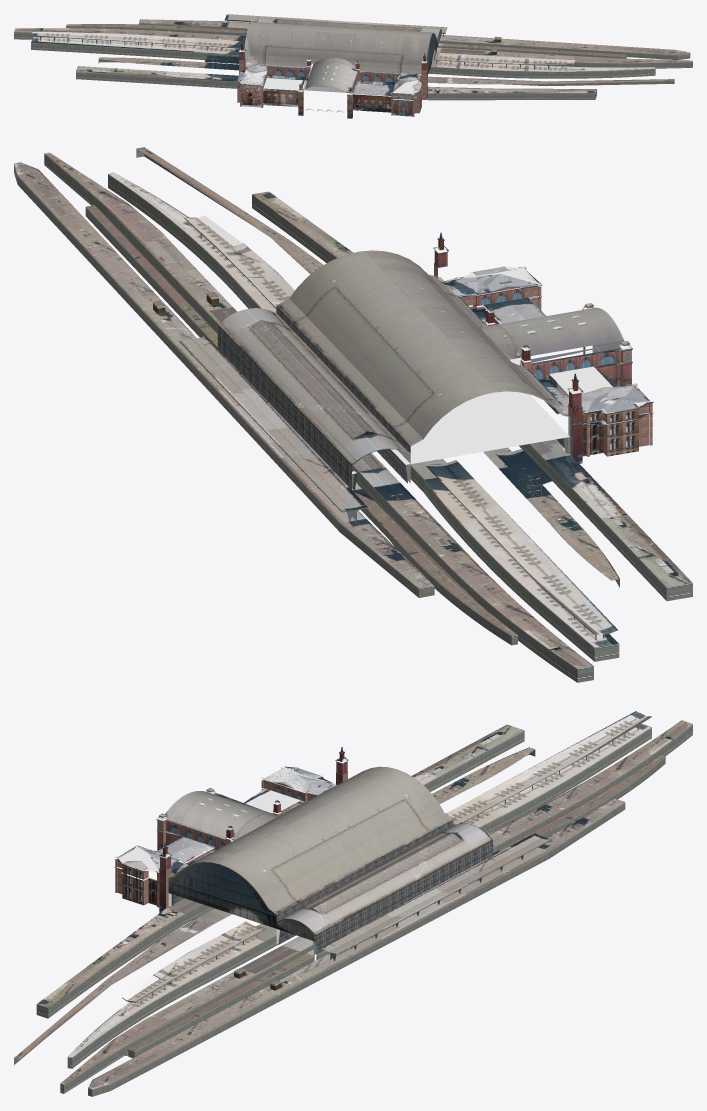
Rendered from Bremen_hbf.gltf.
3 views of the same model, one above another, from view 1: azimuth 30°, elevation 25°; view 2: azimuth 150°, elevation 25°; view 3: azimuth 270°, elevation 25° (orthographic). The views are drawn at different scales.
Parts seen in each view (by area): view 1: Mesh70 Group1 Model, Mesh71 Group1 Model, Mesh72 Group1 Model, Mesh78 Group1 Model, Mesh75 Group1 Model, Mesh74 Group1 Model, Mesh77 Group1 Model, Mesh82 Group1 Model, Mesh76 Group1 Model; view 2: Mesh70 Group1 Model, Mesh72 Group1 Model, Mesh78 Group1 Model, Mesh71 Group1 Model, Mesh74 Group1 Model, Mesh82 Group1 Model, Mesh75 Group1 Model, Mesh77 Group1 Model, Mesh76 Group1 Model; view 3: Mesh70 Group1 Model, Mesh78 Group1 Model, Mesh72 Group1 Model, Mesh71 Group1 Model, Mesh75 Group1 Model, Mesh74 Group1 Model, Mesh82 Group1 Model, Mesh77 Group1 Model.
Boxes of the visible parts, <box> form: Mesh70 Group1 Model: <box>66,18,626,118</box>; Mesh71 Group1 Model: <box>31,37,655,78</box>; Mesh72 Group1 Model: <box>14,28,692,68</box>; Mesh78 Group1 Model: <box>139,19,690,59</box>; Mesh75 Group1 Model: <box>98,57,674,86</box>; Mesh74 Group1 Model: <box>31,30,245,48</box>; Mesh77 Group1 Model: <box>434,52,575,64</box>; Mesh82 Group1 Model: <box>224,14,447,33</box>; Mesh76 Group1 Model: <box>204,55,239,63</box>; Mesh70 Group1 Model: <box>85,191,692,645</box>; Mesh72 Group1 Model: <box>44,152,593,682</box>; Mesh78 Group1 Model: <box>14,162,434,597</box>; Mesh71 Group1 Model: <box>108,172,619,661</box>; Mesh74 Group1 Model: <box>425,460,617,634</box>; Mesh82 Group1 Model: <box>179,336,367,512</box>; Mesh75 Group1 Model: <box>136,147,619,587</box>; Mesh77 Group1 Model: <box>184,215,294,308</box>; Mesh76 Group1 Model: <box>495,449,551,485</box>; Mesh70 Group1 Model: <box>36,724,665,1057</box>; Mesh78 Group1 Model: <box>88,798,625,1096</box>; Mesh72 Group1 Model: <box>60,720,692,1093</box>; Mesh71 Group1 Model: <box>67,723,651,1068</box>; Mesh75 Group1 Model: <box>14,747,535,1064</box>; Mesh74 Group1 Model: <box>446,711,651,825</box>; Mesh82 Group1 Model: <box>321,833,551,954</box>; Mesh77 Group1 Model: <box>122,921,266,1002</box>.
Bounding box in the file's own units: 400 × 37.5 × 311.
59 materials, 58 textured.
